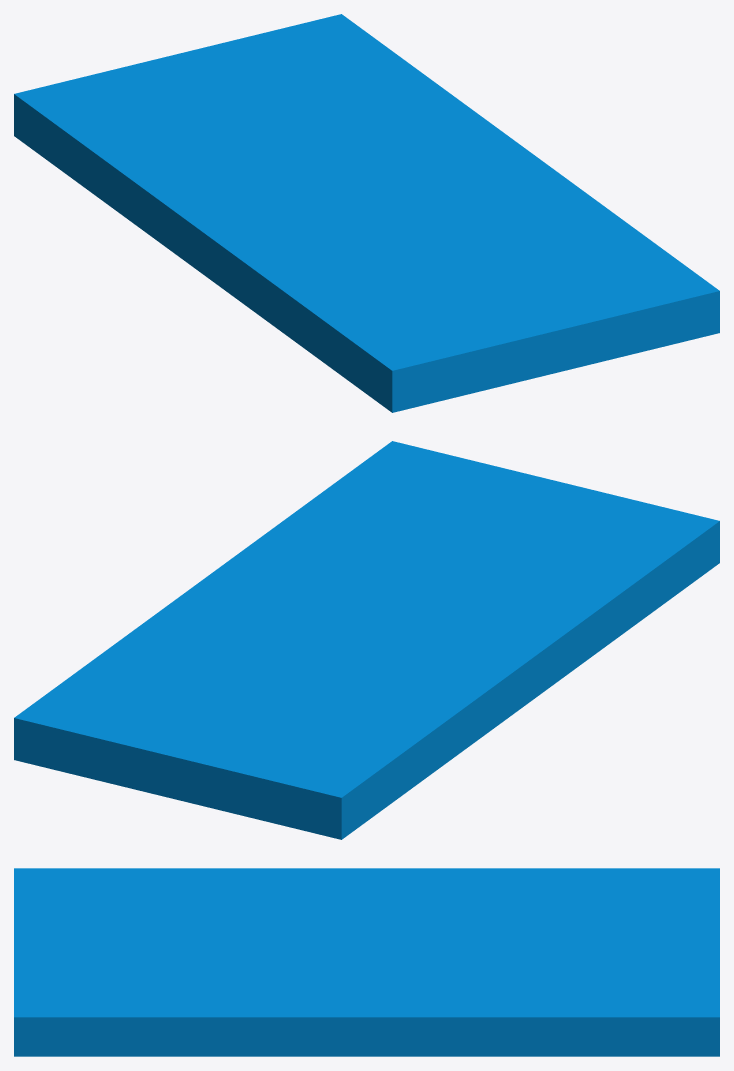
The model's file is Jigsaw_Color_04.fbx.
The picture shows the model from 3 angles, top to bottom: view 1: azimuth 30°, elevation 25°; view 2: azimuth 150°, elevation 25°; view 3: azimuth 270°, elevation 25°; orthographic projection. The views are drawn at different scales.
Parts seen in each view (by area): view 1: Jigsaw_Color_04; view 2: Jigsaw_Color_04; view 3: Jigsaw_Color_04.
Boxes of the visible parts, x1,y1,x2,y2 form: Jigsaw_Color_04: (14, 14, 719, 412); Jigsaw_Color_04: (14, 441, 719, 839); Jigsaw_Color_04: (14, 868, 719, 1056).
Bounding box in the file's own units: 16.35 × 2.01 × 32.69.
